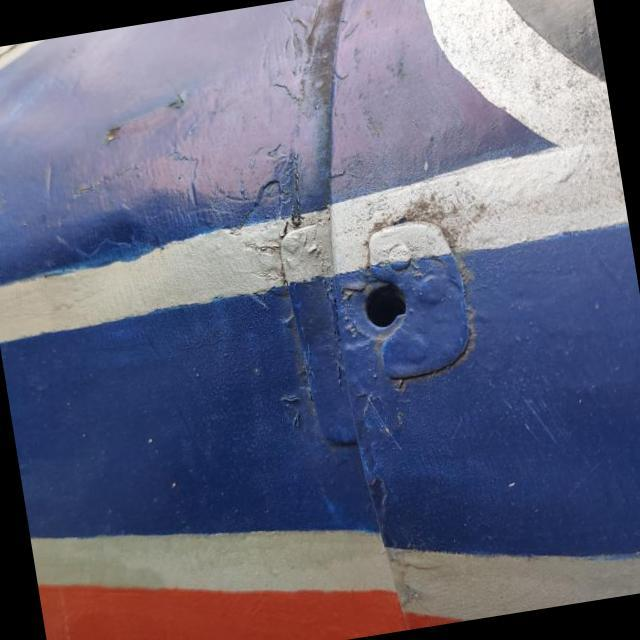Fastener Damage: (322, 236, 458, 371)
